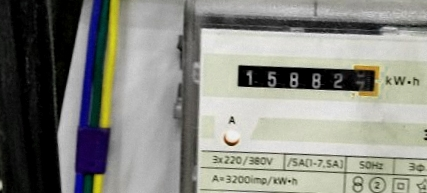1: (244, 67, 255, 86)
2: (332, 70, 344, 88)
5: (265, 69, 278, 87)
7: (353, 78, 365, 91)
8: (288, 69, 300, 87), (311, 71, 322, 87)
screen: (229, 52, 386, 101)
